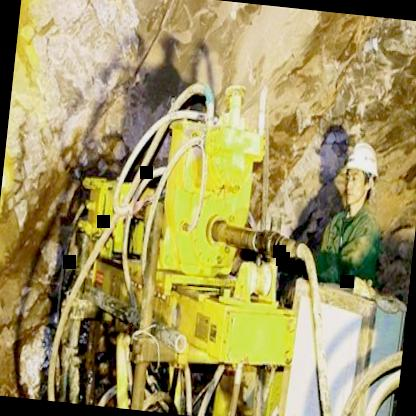helmet: (336, 138, 384, 214)
